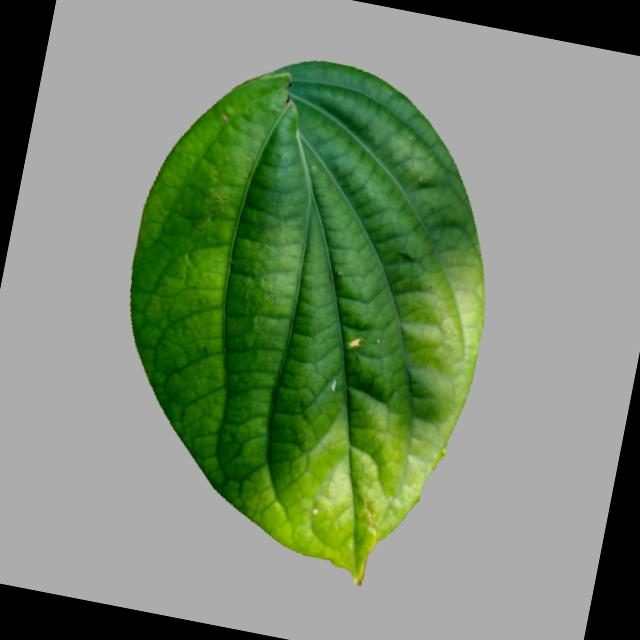healthy: (77, 23, 535, 610)
